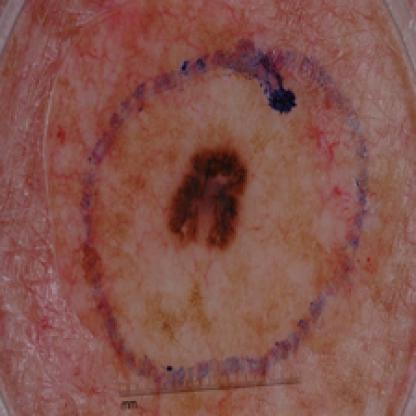malignant: (164, 152, 256, 245)
